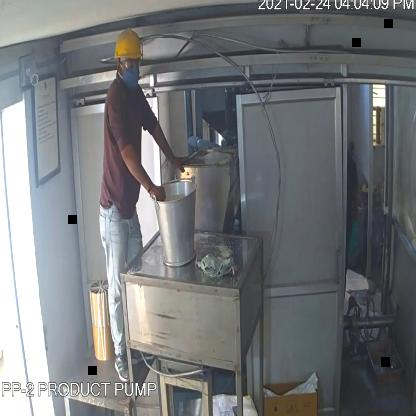helmet: (112, 25, 146, 64)
